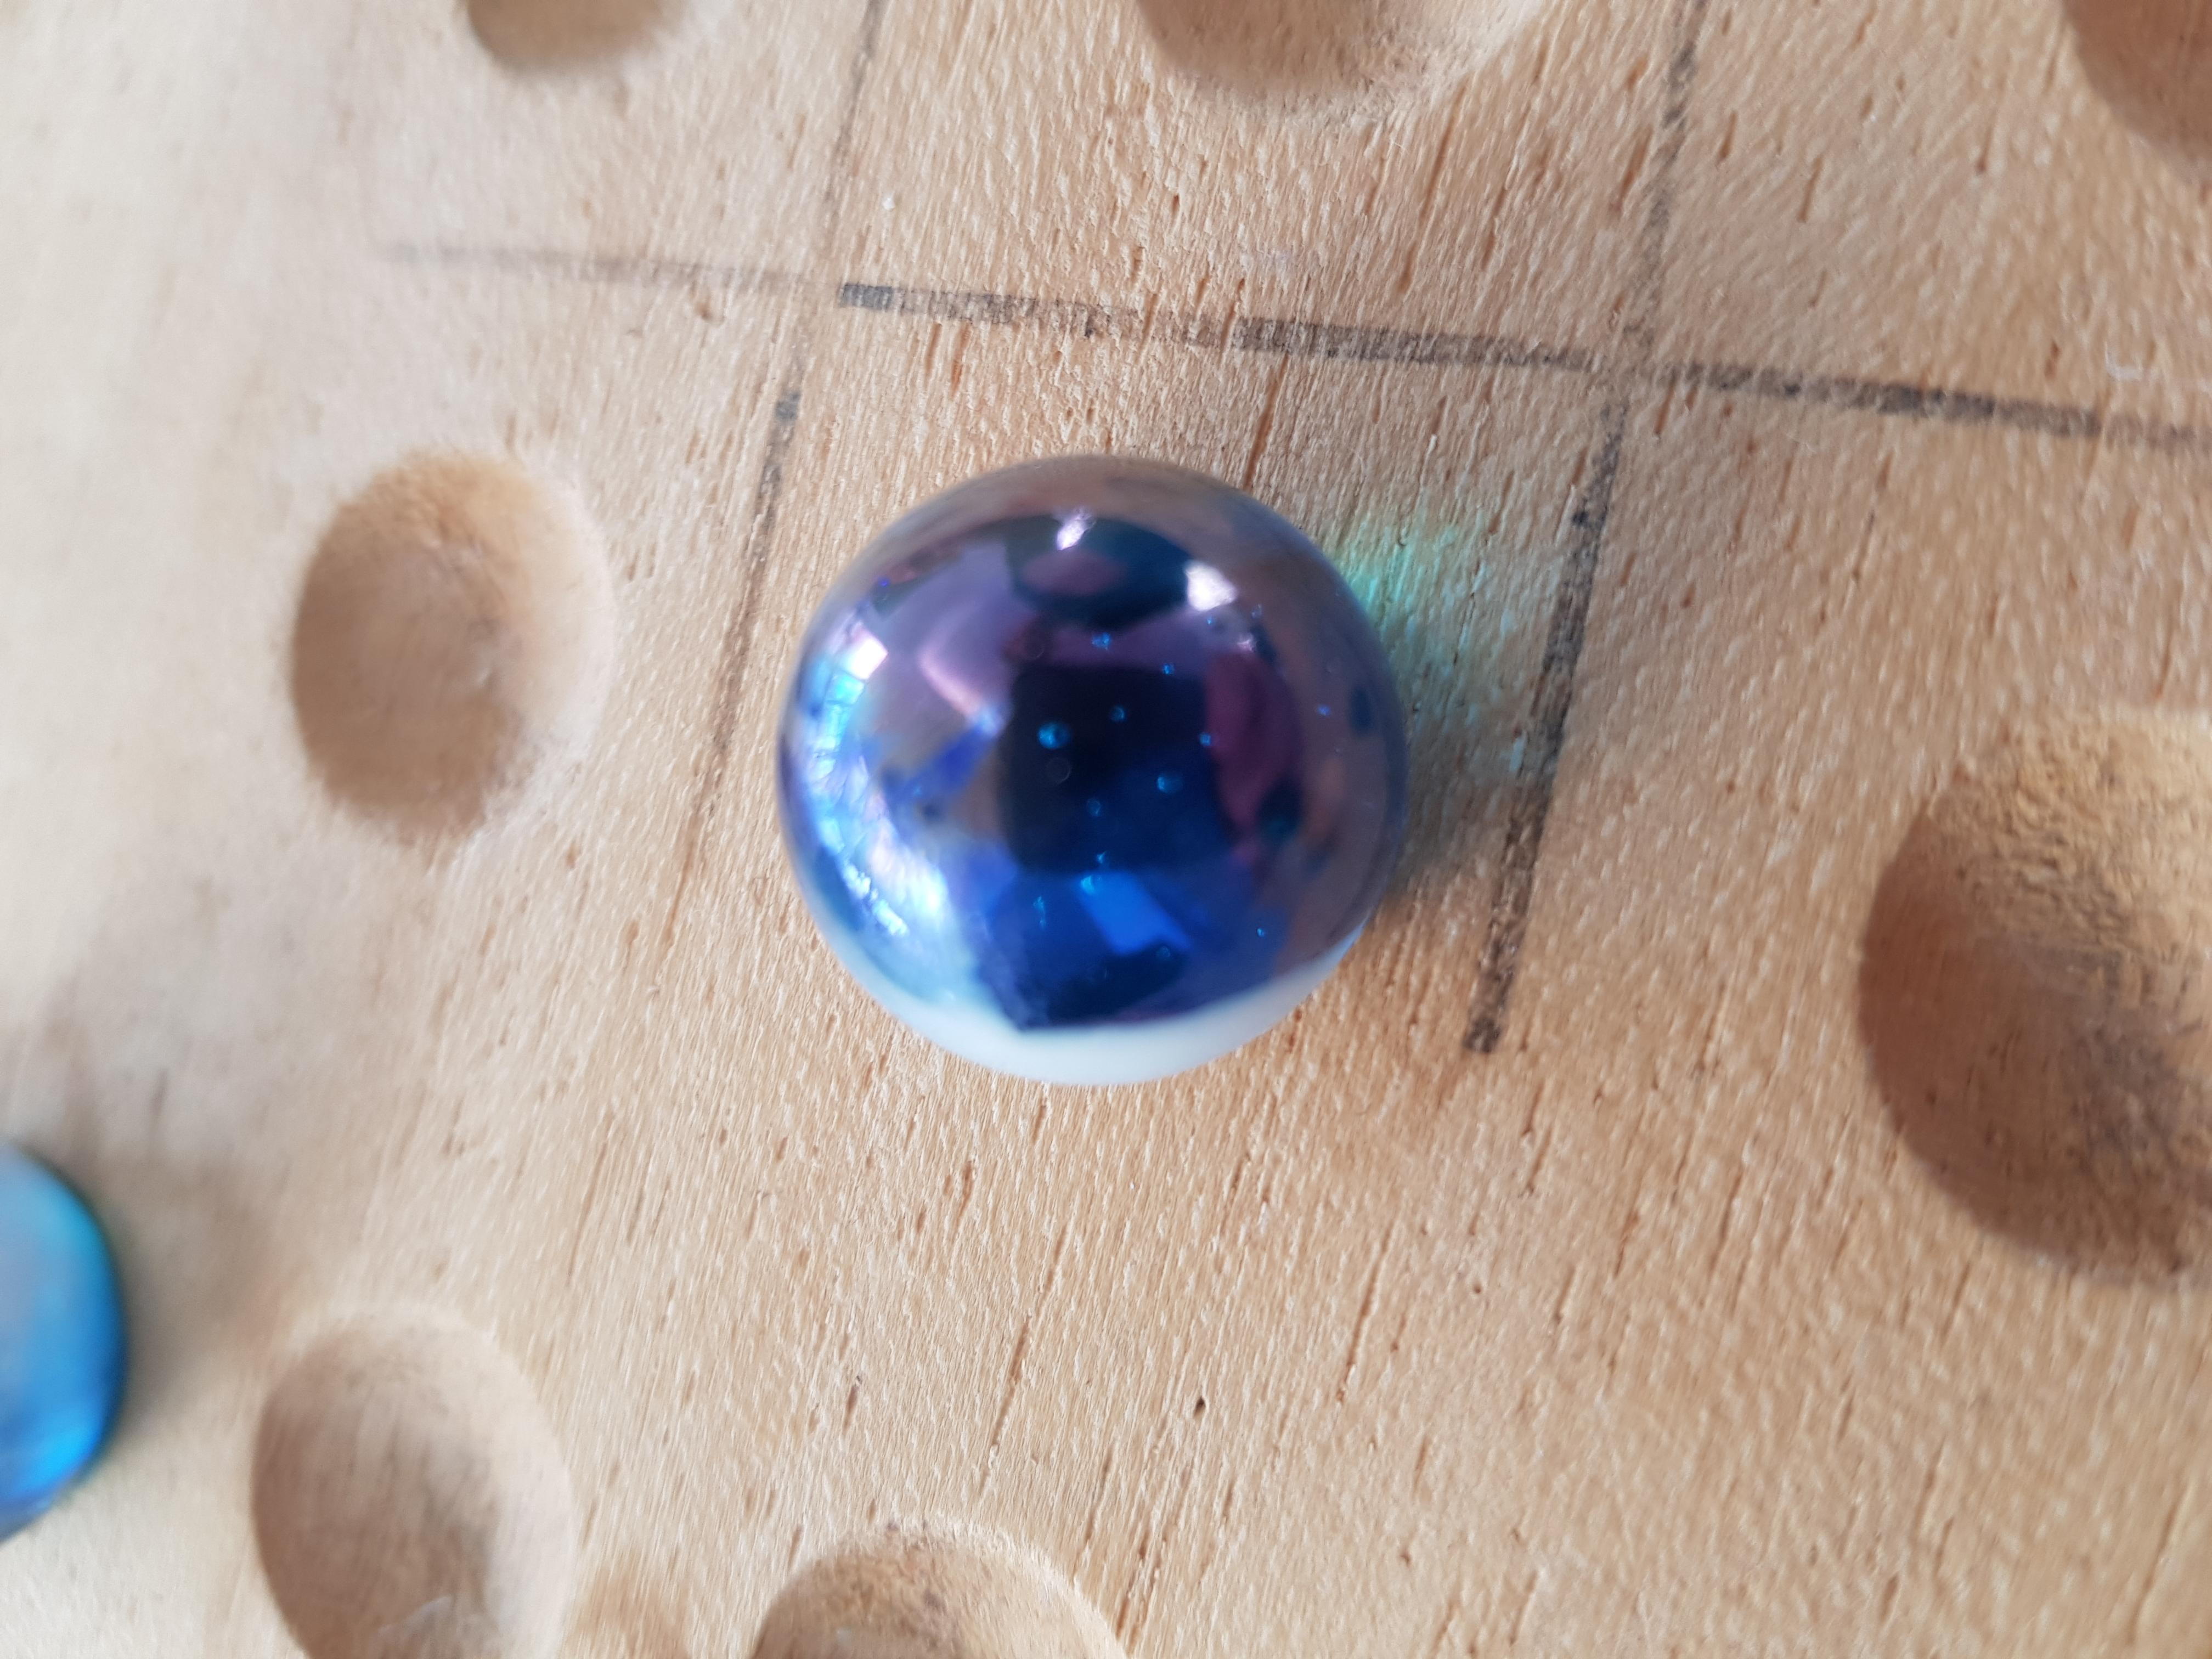sphere: (768, 436, 1369, 1100)
